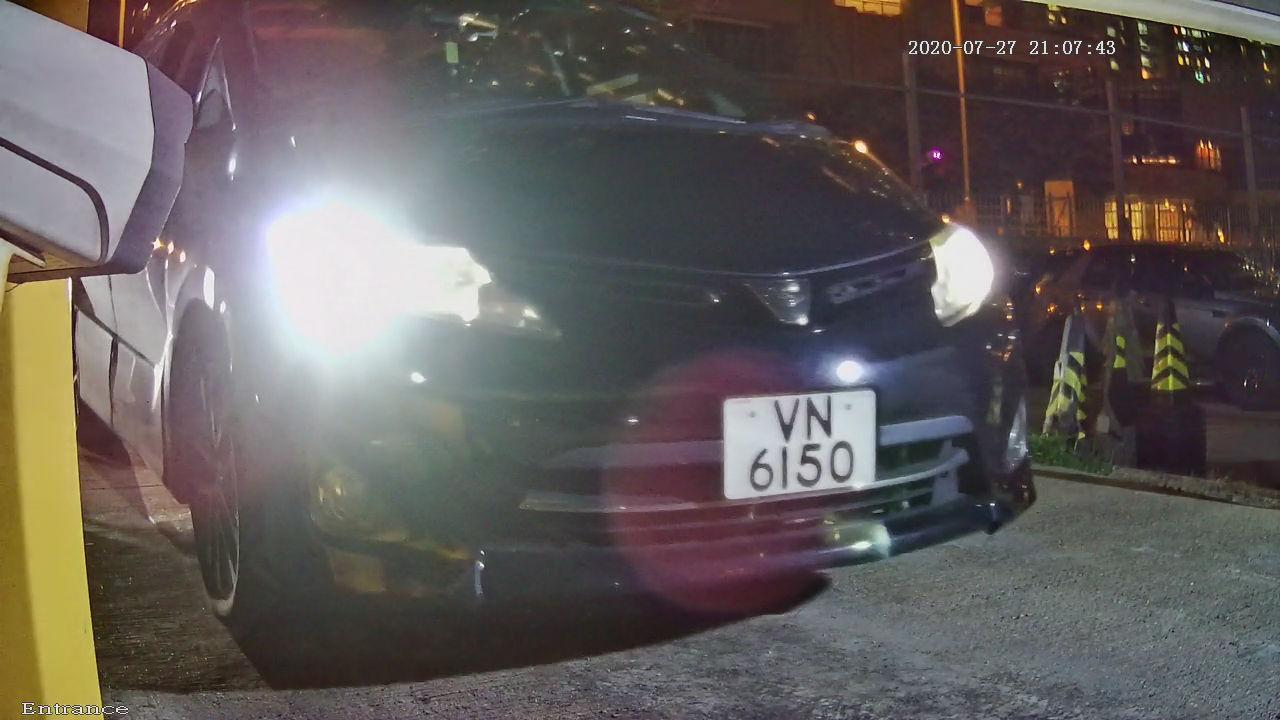privatecar: (57, 2, 1080, 627)
